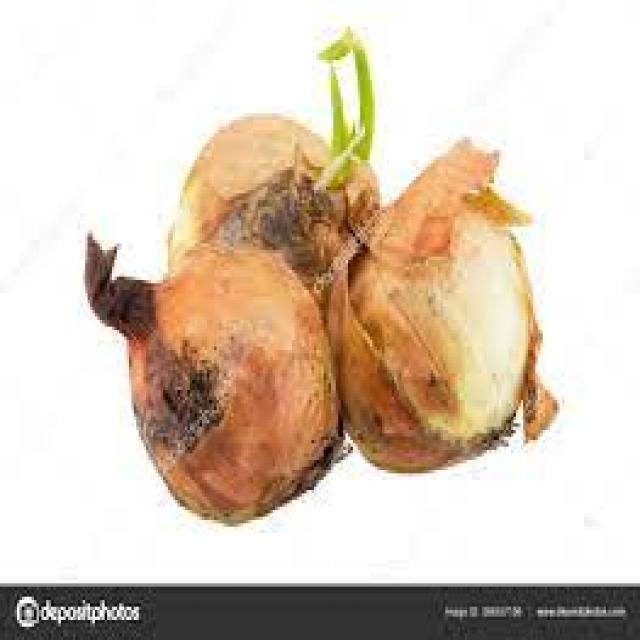Onion: (84, 235, 352, 527), (329, 138, 562, 472), (165, 114, 382, 332), (313, 24, 377, 192)
